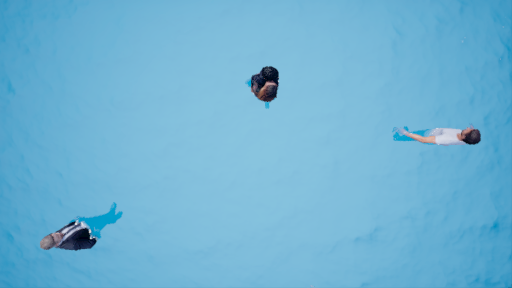person: (31, 205, 125, 252), (384, 117, 487, 150), (246, 59, 286, 113)
